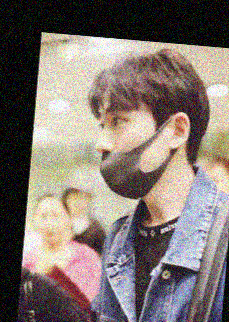mask_weared_incorrect: (94, 114, 170, 198)
